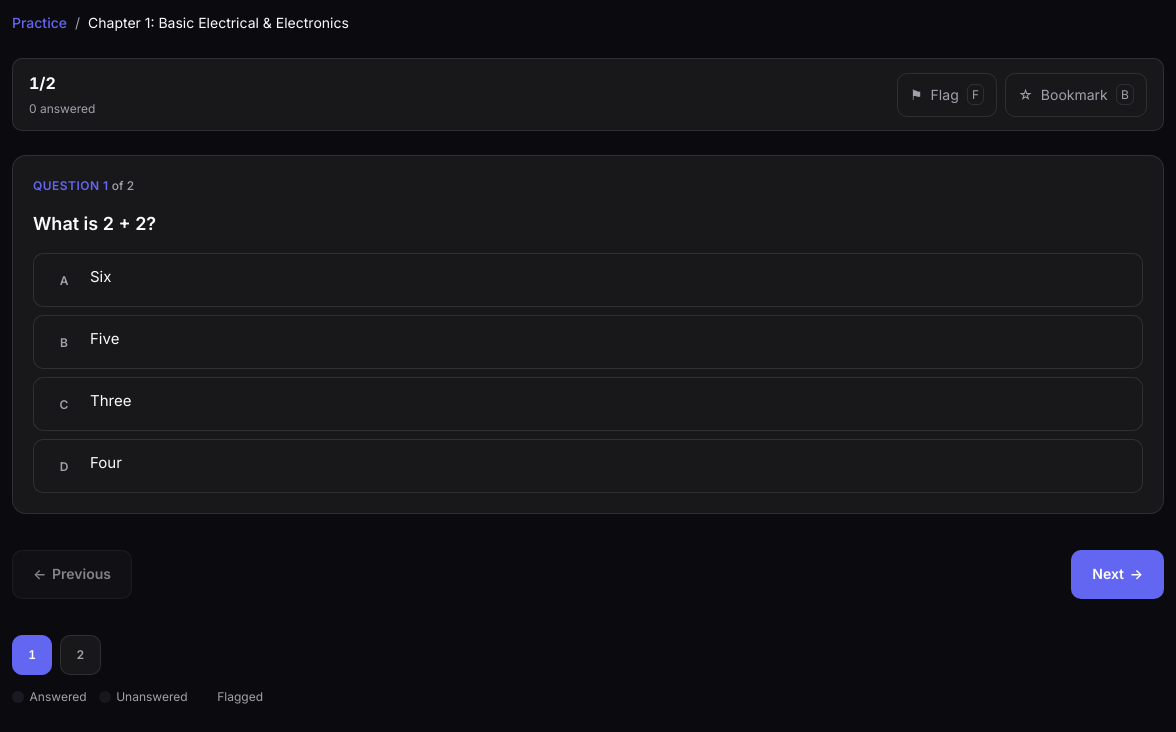
Scenario: TopicPractice › exposes flag-for-review, and the palette reflects it
Expected: the text "Question 1" is shown, [33,176,134,195]
Click the button "⚑ Flag F". click: click(947, 95)
box: [897,73,997,117]
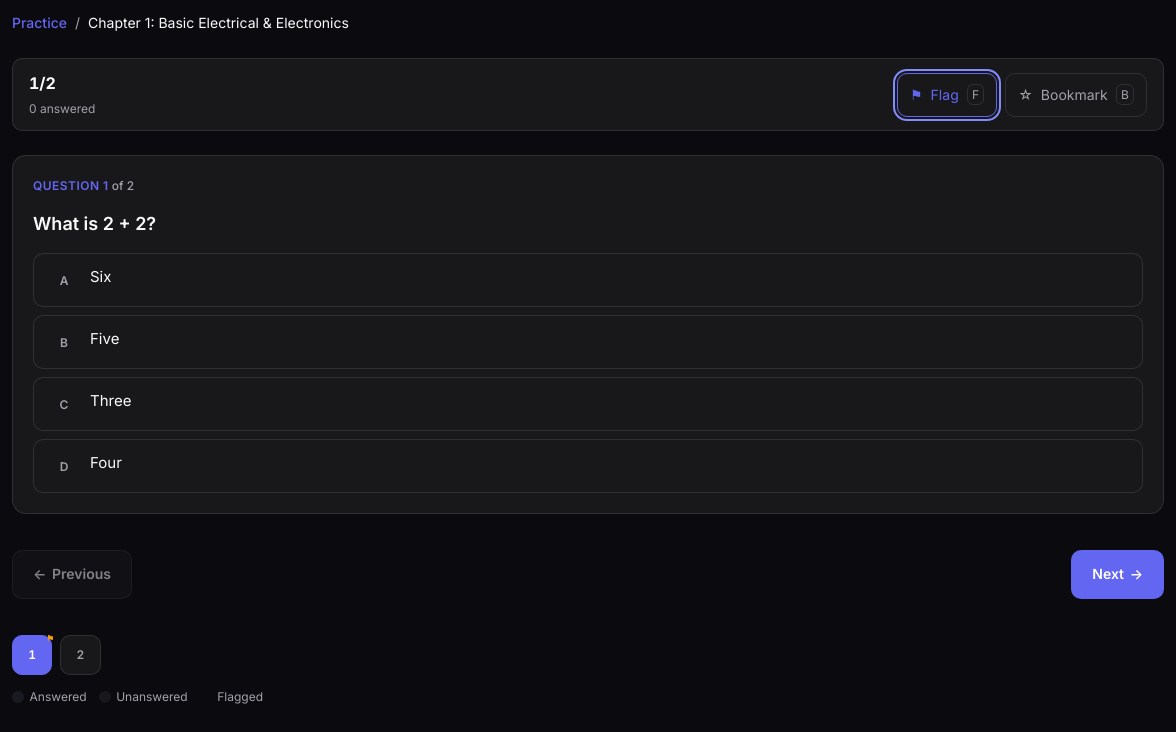
Now the button "1 ⚑" is shown, box [12,635,52,675]
